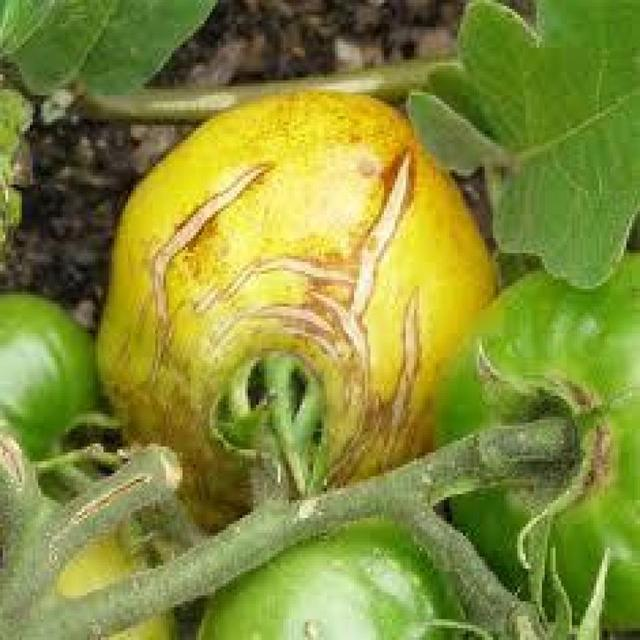Cracking Fruit: (61, 93, 352, 286)
